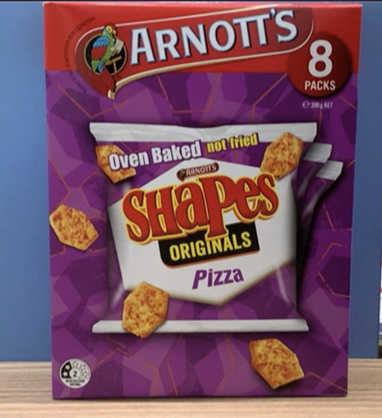crackers_150g: (59, 9, 338, 391)
